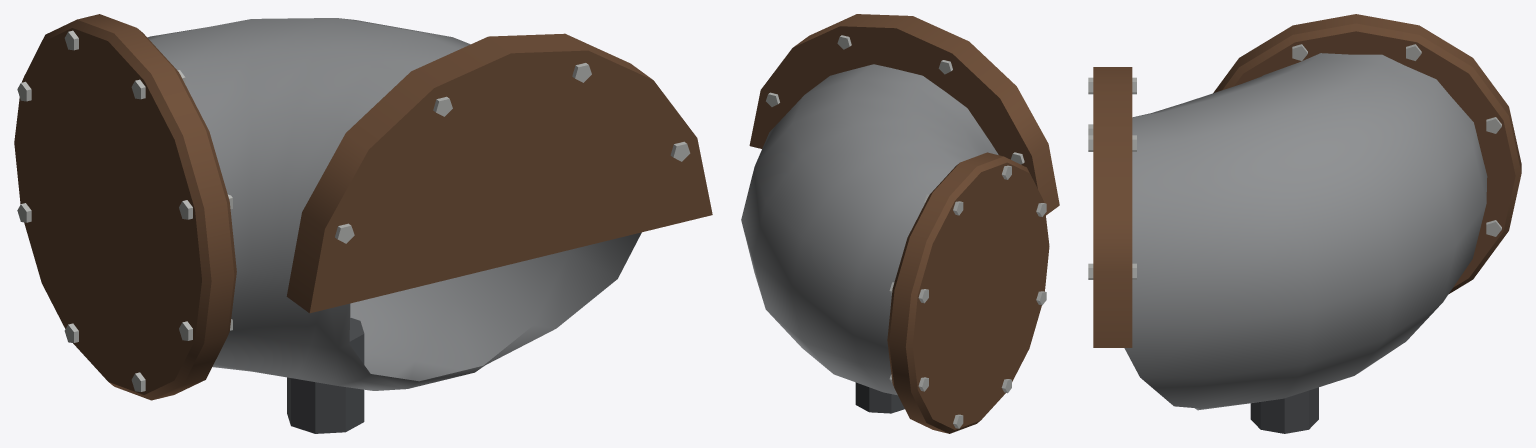
The model's file is pipe-corner-down-left.glb.
The picture shows the model from 3 angles, left to right: view 1: azimuth 30°, elevation 25°; view 2: azimuth 150°, elevation 25°; view 3: azimuth 270°, elevation 25°; orthographic projection. The views are drawn at different scales.
Parts seen in each view (by area): view 1: body; view 2: body; view 3: body.
Part boxes in pixels (box(x1,y1,x2,y2)): body: box(14, 14, 712, 433); body: box(741, 14, 1059, 433); body: box(1088, 14, 1521, 433).
Bounding box in the file's own units: 0.916 × 0.826 × 0.89.
